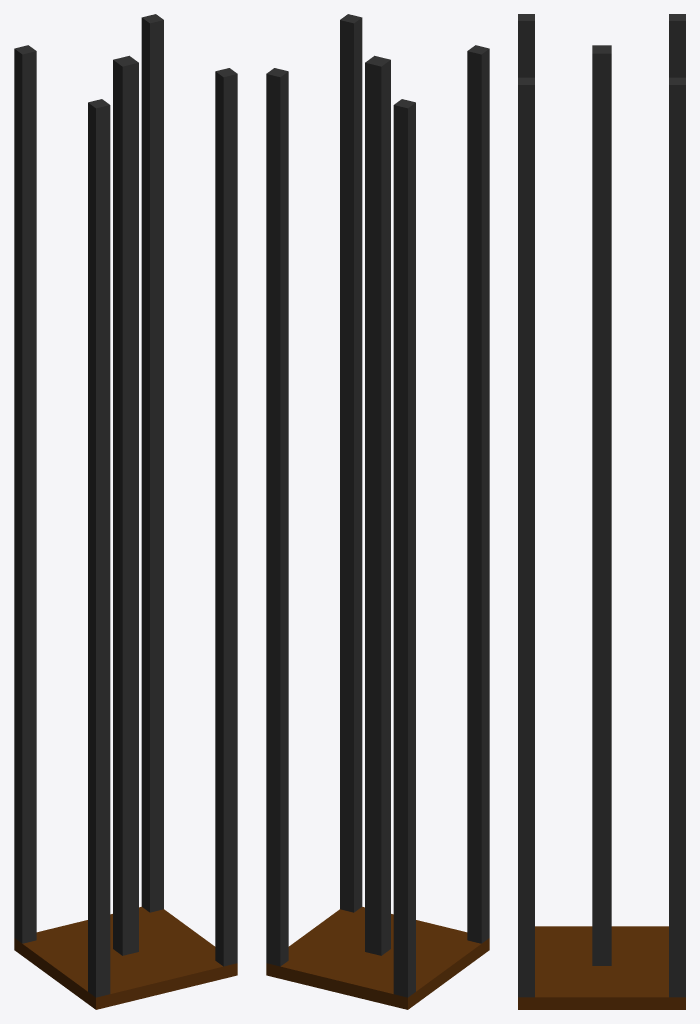
Rendered from Lift.fbx.
The picture shows the model from 3 angles, left to right: view 1: azimuth 30°, elevation 25°; view 2: azimuth 150°, elevation 25°; view 3: azimuth 270°, elevation 25°; orthographic projection. The views are drawn at different scales.
Parts seen in each view (by area): view 1: Lift, Carrier; view 2: Lift, Carrier; view 3: Lift, Carrier.
Part boxes in pixels (left/top/right/bottom): Lift: left=14, top=14, right=237, bottom=997; Carrier: left=14, top=906, right=237, bottom=1009; Lift: left=266, top=14, right=489, bottom=997; Carrier: left=266, top=906, right=489, bottom=1009; Lift: left=518, top=14, right=685, bottom=997; Carrier: left=518, top=926, right=685, bottom=1009.
Size of the model in its own units: 200 by 1217 by 200.
